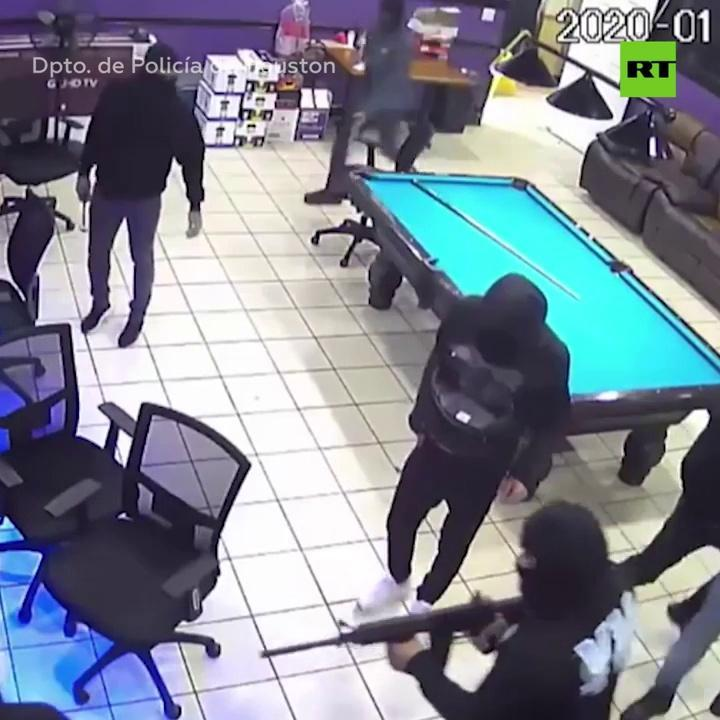Long guns: (253, 585, 526, 701)
